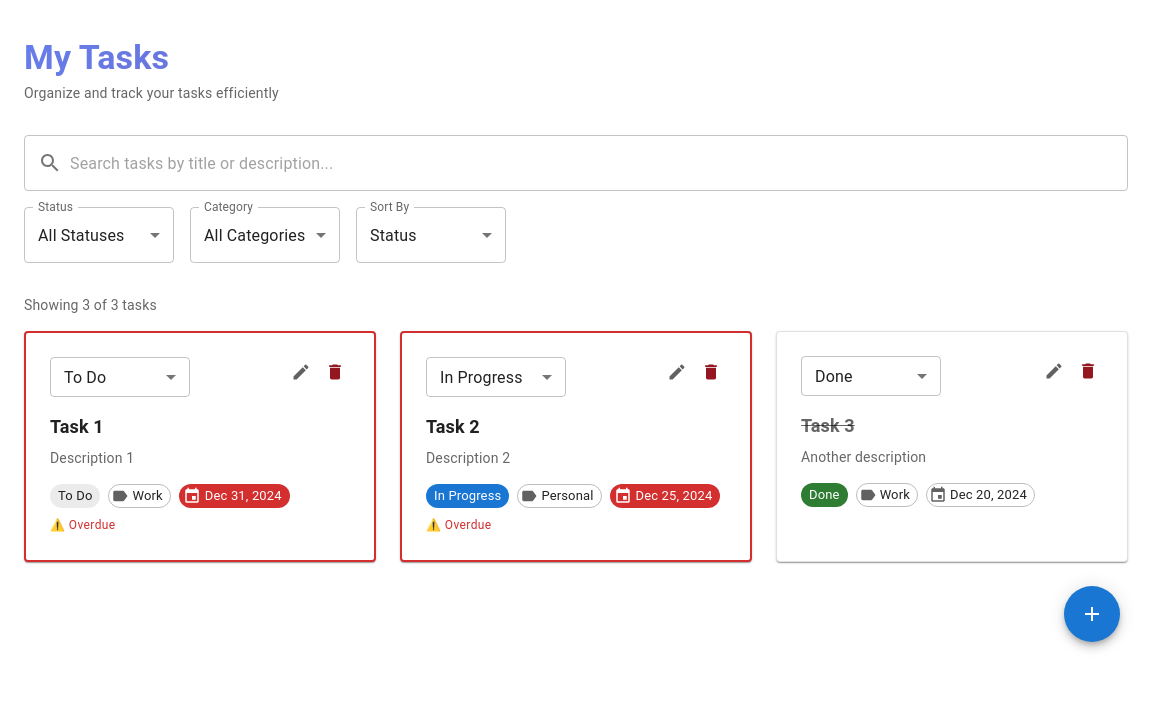
Test: TaskList › Create Task › should open create form when FAB is clicked
Expected: the heading "Task 1" is shown, 50,416 -> 104,437
Click the button named "add task" at [1092, 614], box 1064,586 -> 1120,642
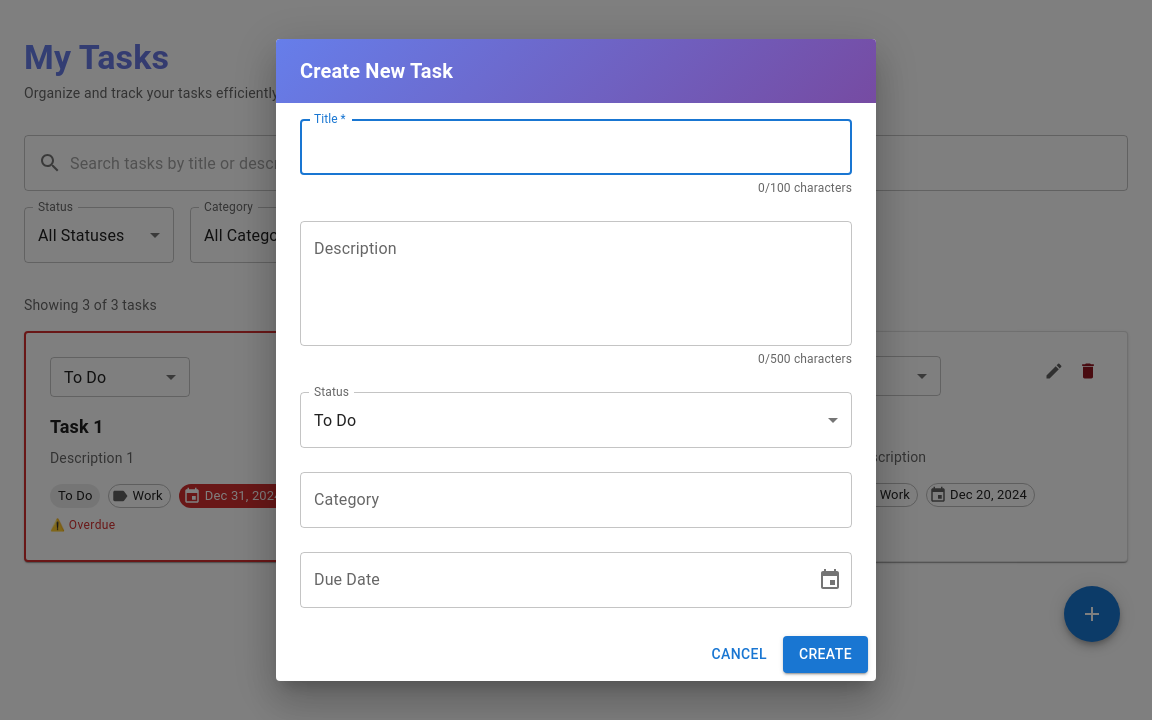
Result: the heading "Create New Task" is shown at 276,39 -> 876,103
